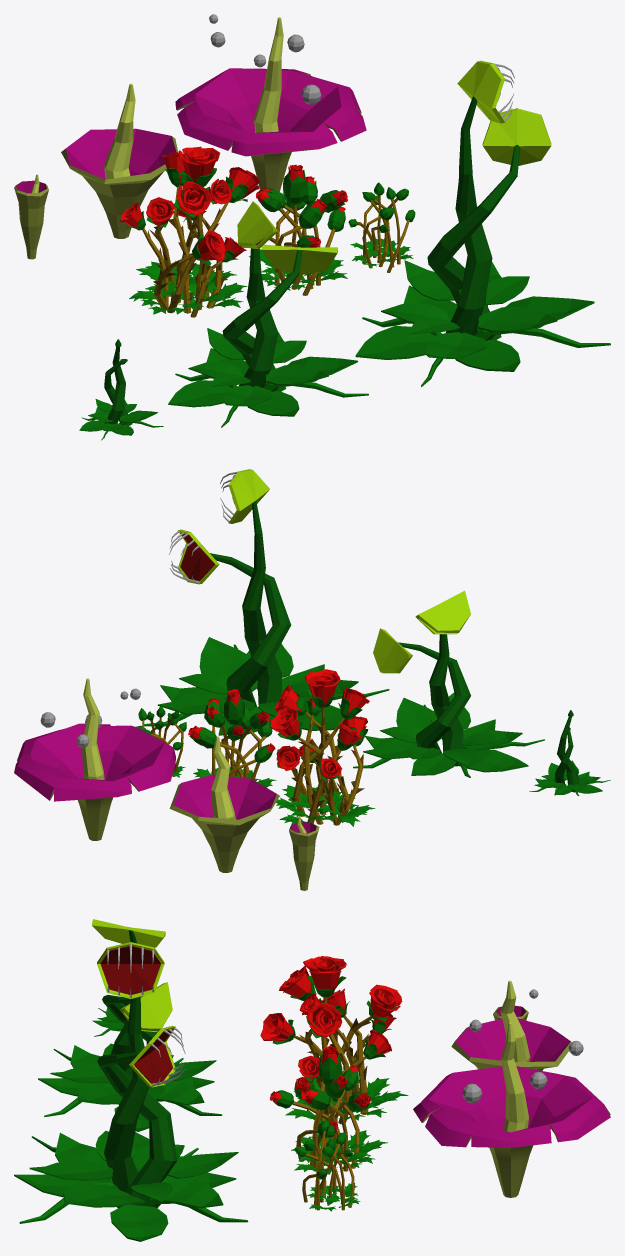
File: Attack_Plants.fbx
3 renders of one model, top to bottom at view 1: azimuth 30°, elevation 25°; view 2: azimuth 150°, elevation 25°; view 3: azimuth 270°, elevation 25°, orthographic. The views are drawn at different scales.
Parts seen in each view (by area): view 1: TItanwurz, TItanwurz_middle, sweep2, pCylinder45 (×2), sweep3, Blüte1 (×4), pPlane6 (×2), pPlane10 (×2), pPlane7 (×2), pPlane12 (×2), pPlane9 (×2), TItanwurz_start (+11 smaller); view 2: TItanwurz, TItanwurz_middle, sweep2, sweep3, pCylinder45 (×2), pPlane9 (×2), pPlane6 (×2), pPlane5 (×2), Venus_Blüte_Closed1, Blüte1 (×2), TItanwurz_start, Venus_Blüte_Closed (+4 smaller); view 3: TItanwurz, sweep2, TItanwurz_middle, pCylinder45 (×2), Blüte1 (×5), pPlane9 (×2), pPlane5 (×2), pPlane10 (×2), pPlane8, pPlane14 (×2), pPlane7 (×2), pPlane12 (×2) (+6 smaller).
Boxes of the visible parts, <box> form: TItanwurz: <box>175,17,366,191</box>; TItanwurz_middle: <box>61,83,178,238</box>; sweep2: <box>427,96,519,339</box>; pCylinder45 (×2): <box>457,60,551,165</box>; sweep3: <box>222,248,301,391</box>; Blüte1 (×4): <box>146,146,225,260</box>; pPlane6 (×2): <box>168,325,435,407</box>; pPlane10 (×2): <box>265,306,557,385</box>; pPlane7 (×2): <box>247,340,520,416</box>; pPlane12 (×2): <box>224,332,486,406</box>; pPlane9 (×2): <box>287,296,594,375</box>; TItanwurz_start: <box>14,174,48,259</box>; TItanwurz: <box>14,678,175,840</box>; TItanwurz_middle: <box>169,736,279,872</box>; sweep2: <box>210,500,291,706</box>; sweep3: <box>398,634,470,753</box>; pCylinder45 (×2): <box>178,469,269,584</box>; pPlane9 (×2): <box>199,637,442,741</box>; pPlane6 (×2): <box>297,703,528,772</box>; pPlane5 (×2): <box>157,690,417,759</box>; Venus_Blüte_Closed1: <box>415,590,470,634</box>; Blüte1 (×2): <box>270,669,340,736</box>; TItanwurz_start: <box>289,816,319,890</box>; Venus_Blüte_Closed: <box>373,628,412,673</box>; TItanwurz: <box>413,1022,610,1197</box>; sweep2: <box>97,996,177,1208</box>; TItanwurz_middle: <box>451,980,571,1070</box>; pCylinder45 (×2): <box>97,942,175,1087</box>; Blüte1 (×5): <box>260,956,402,1041</box>; pPlane9 (×2): <box>63,1083,144,1207</box>; pPlane5 (×2): <box>157,1081,223,1208</box>; pPlane10 (×2): <box>29,1067,112,1180</box>; pPlane8: <box>110,1204,168,1241</box>; pPlane14 (×2): <box>167,1060,238,1178</box>; pPlane7 (×2): <box>14,1078,111,1197</box>; pPlane12 (×2): <box>55,1045,107,1166</box>.
Size of the model in its own units: 16.77 by 8.8 by 17.66.
